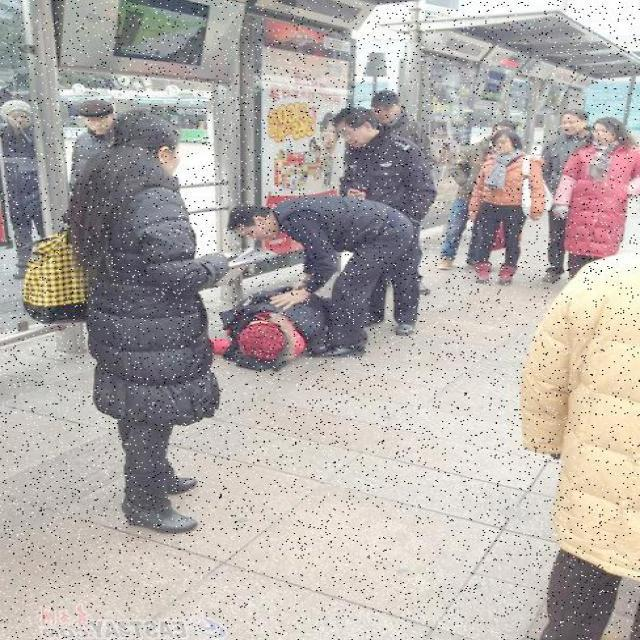fall: (202, 279, 382, 372)
